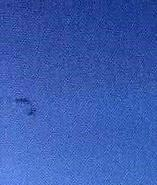knot: (12, 94, 40, 119)
